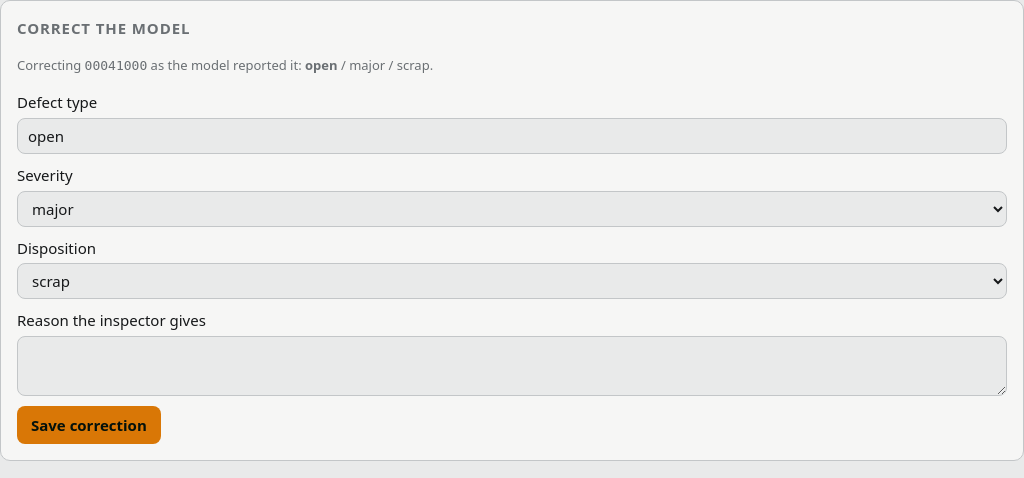
Test: CorrectionForm › posts the corrected labels to /corrections and confirms
Replace the text in the field labelled "Defect type" with "spur" at point(512, 136), box left=17, top=118, right=1007, bottom=154
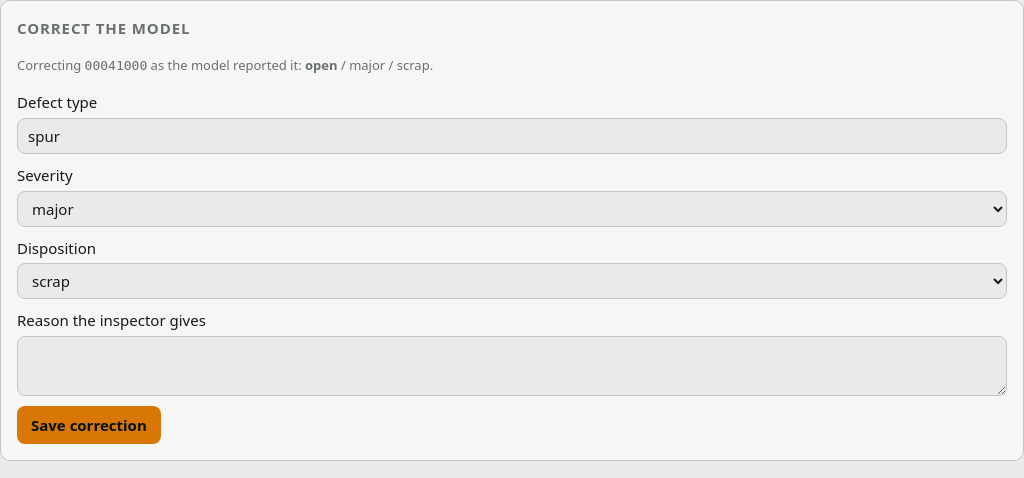
Click the button "Save correction" at point(89, 425), box left=17, top=406, right=161, bottom=444
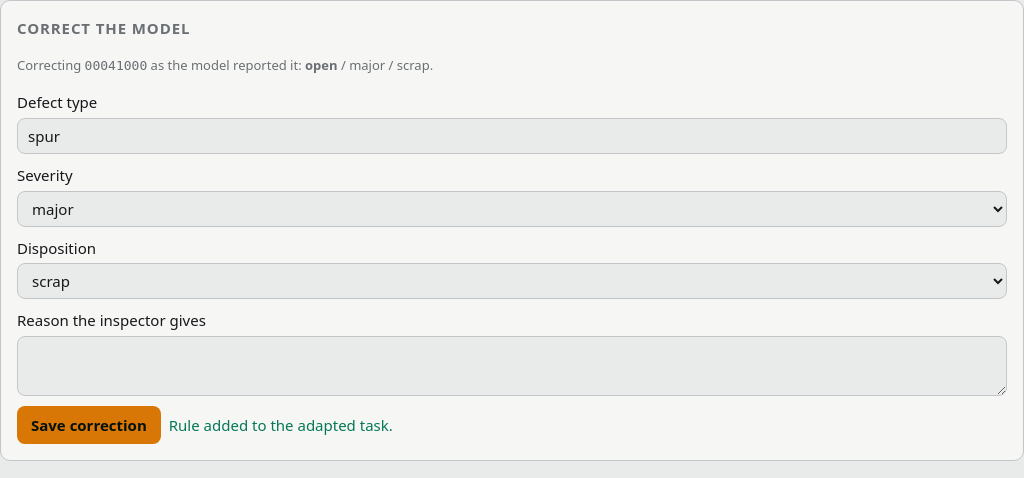
Expected: the text "open" is shown, left=305, top=56, right=338, bottom=74
Expected: the text "Rule added to the adapted task." is shown, left=169, top=414, right=393, bottom=436
